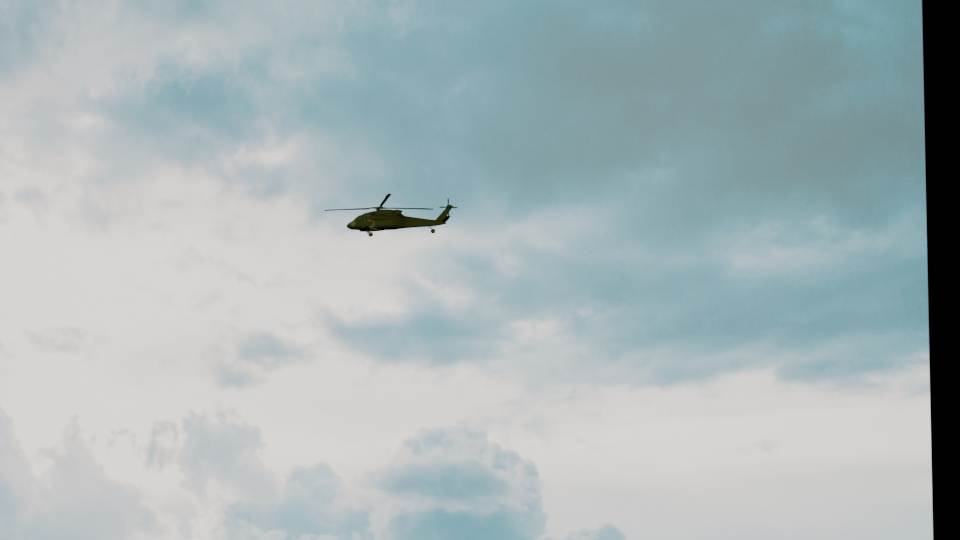heli: (343, 191, 457, 237)
